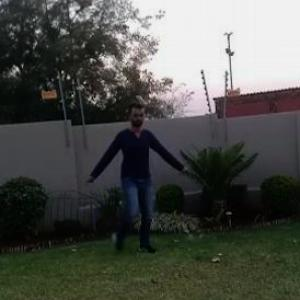land: (81, 108, 187, 248)
